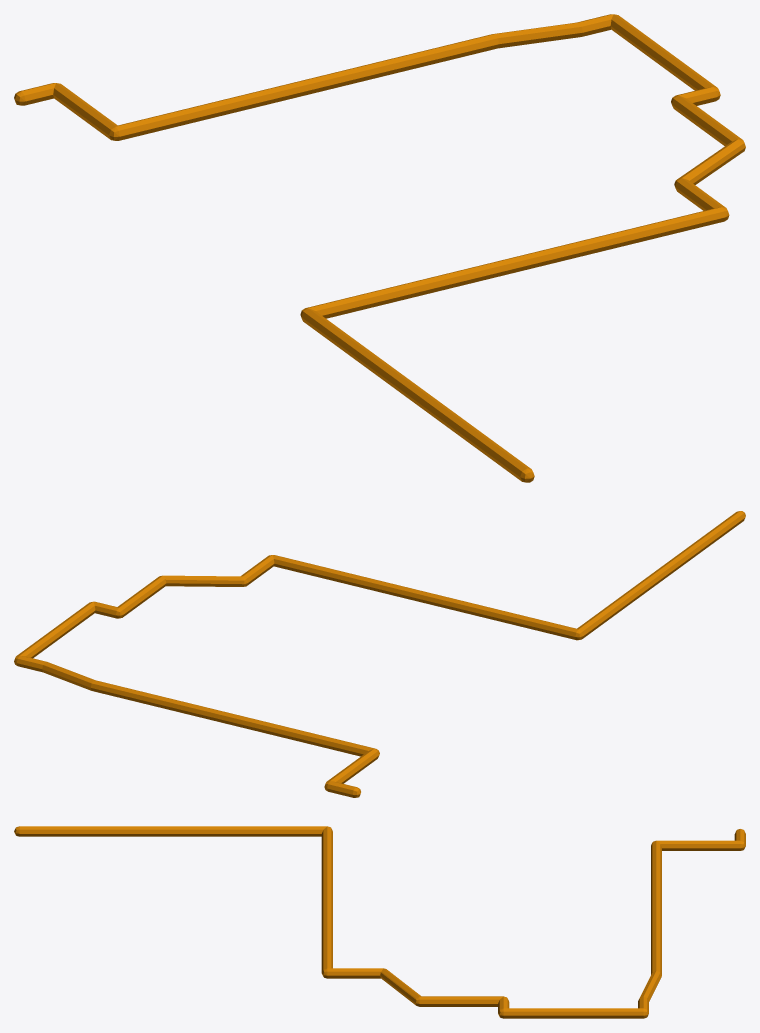
The picture shows the model from 3 angles, top to bottom: view 1: azimuth 30°, elevation 25°; view 2: azimuth 150°, elevation 25°; view 3: azimuth 270°, elevation 25°; orthographic projection. The views are drawn at different scales.
Size of the model in its own units: 789 by 20 by 1308.
